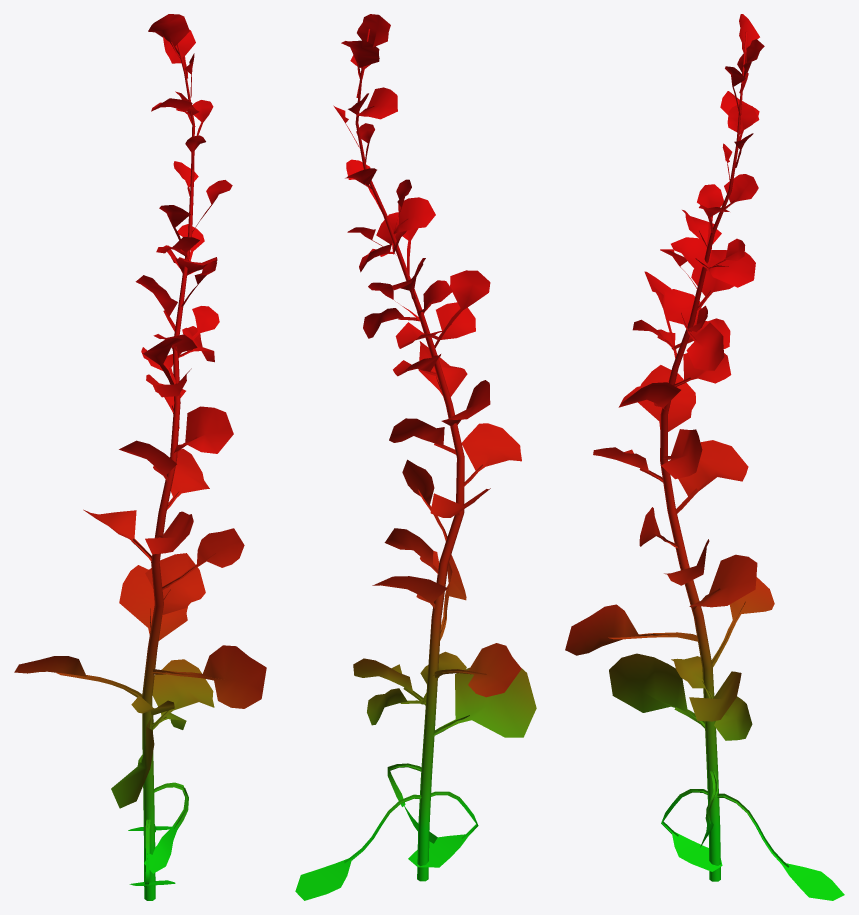
Rendered from Var3_LOD0.fbx.
3 renders of one model, left to right at view 1: azimuth 30°, elevation 25°; view 2: azimuth 150°, elevation 25°; view 3: azimuth 270°, elevation 25°, orthographic.
Visible parts, largest first — view 1: _45fa_Var3_LOD0; view 2: _45fa_Var3_LOD0; view 3: _45fa_Var3_LOD0.
Part boxes in pixels (x1,y1,x2,y2): _45fa_Var3_LOD0: [14, 14, 266, 900]; _45fa_Var3_LOD0: [295, 14, 536, 900]; _45fa_Var3_LOD0: [565, 14, 844, 900].
Bounding box in the file's own units: 18.92 × 81.56 × 23.48.
